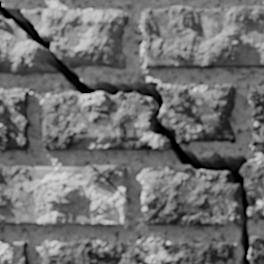brick: (0, 167, 127, 225), (143, 7, 263, 67), (43, 241, 232, 263), (0, 91, 29, 150), (95, 166, 125, 195), (249, 86, 263, 144), (0, 242, 27, 263), (251, 237, 263, 263)
broken_brick: (42, 91, 170, 152), (23, 7, 129, 68), (141, 167, 240, 226), (159, 83, 236, 144), (0, 18, 58, 74), (242, 162, 263, 219)
crack: (0, 0, 262, 263), (90, 165, 127, 200)
